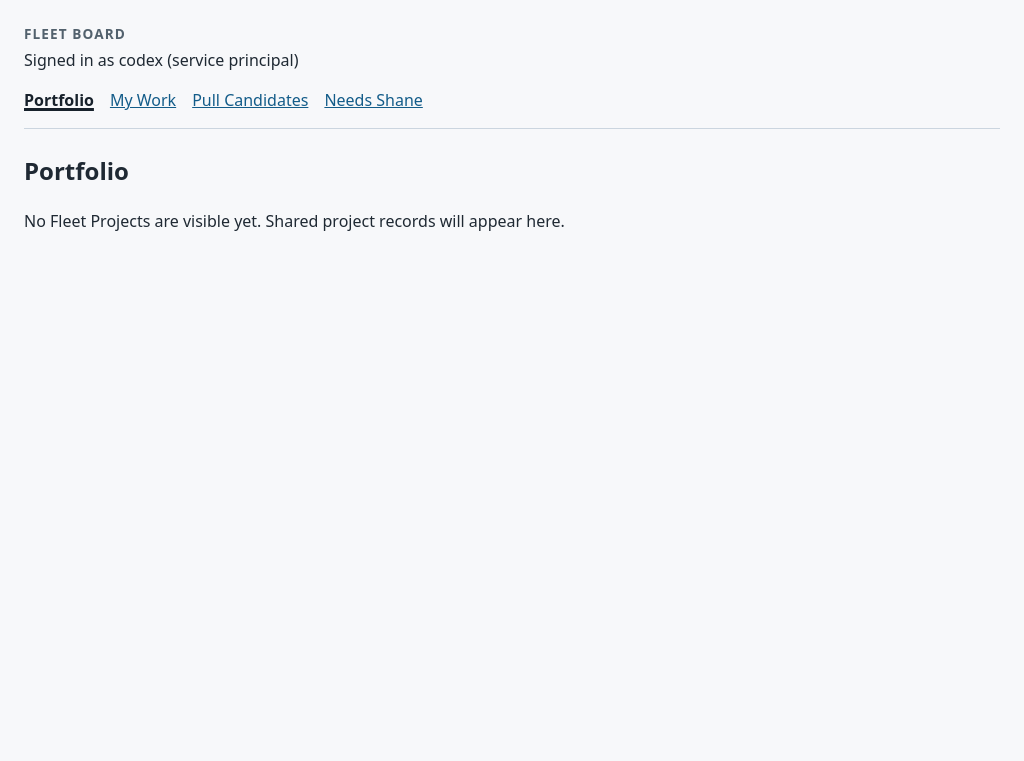
Work Request lifecycle on the Board › refreshes a stale request before an explicit new-version retry
Expected: the text "Signed in as codex (service principal)" is shown, 24,49 -> 298,71
Click the link "My Work".
click(143, 100)  # box 110,88 -> 176,112
(page scrolled)
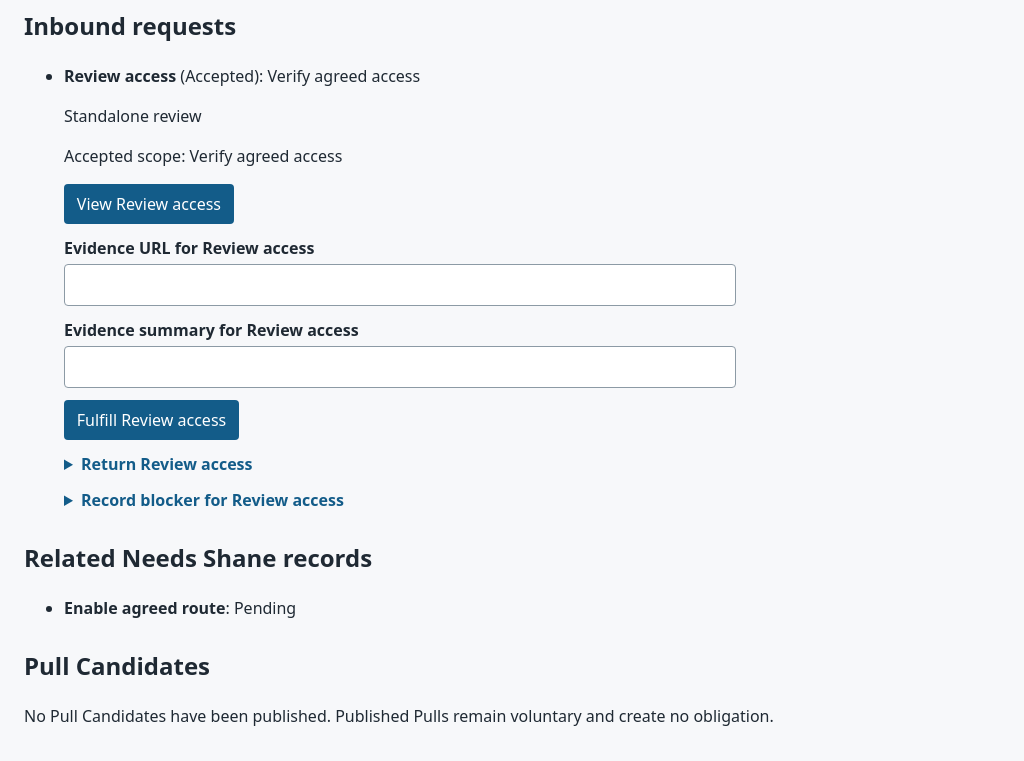
Click the heading "Return Review access".
click(167, 464)  # box 81,453 -> 252,475
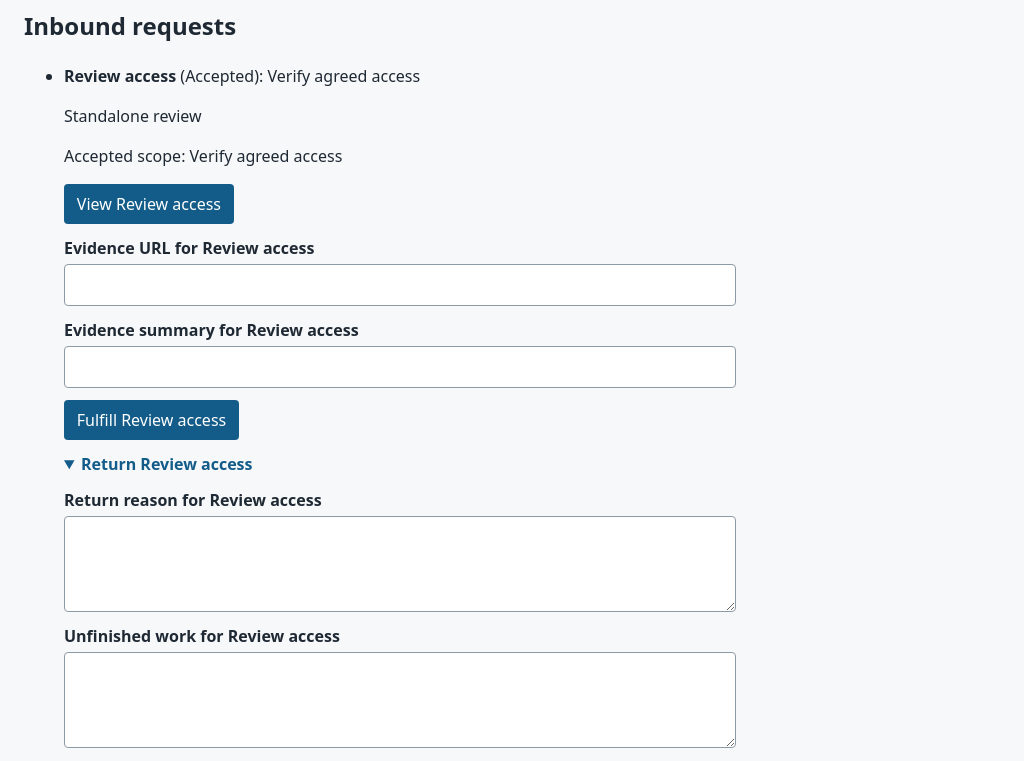
Type "Unavailable" into the text box labelled "Return reason for Review access".
click(400, 564); type("Unavailable")  # box 64,516 -> 736,612
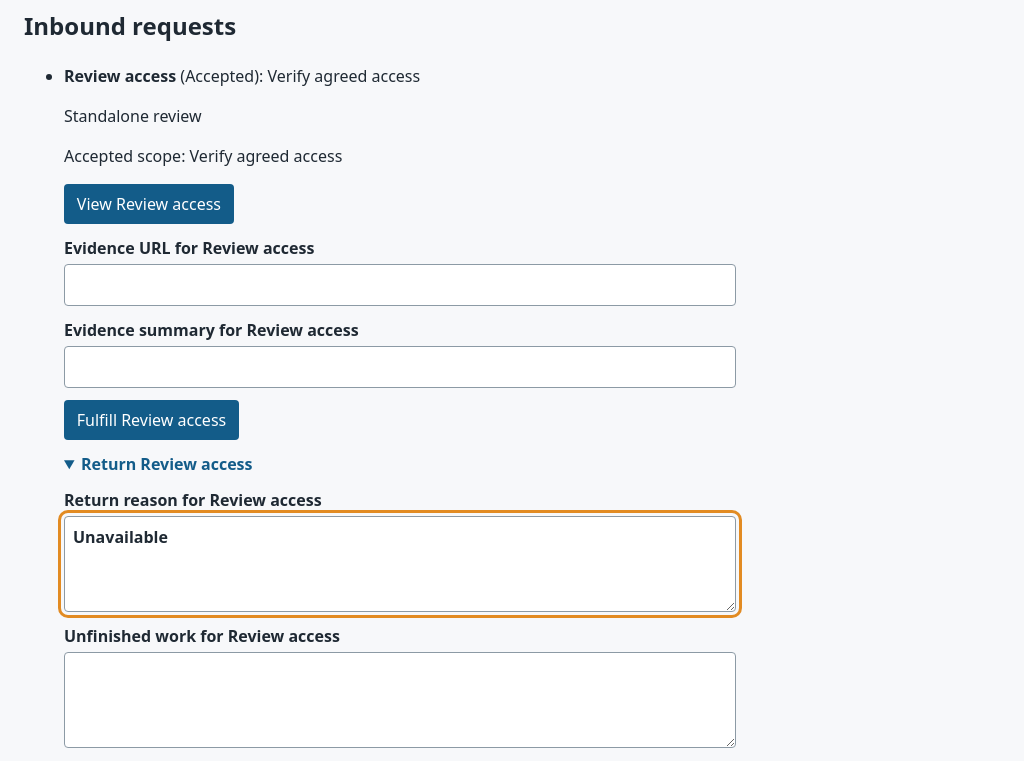
Type "Verification remains" into the text box labelled "Unfinished work for Review access".
click(400, 700); type("Verification remains")  # box 64,652 -> 736,748
(page scrolled)
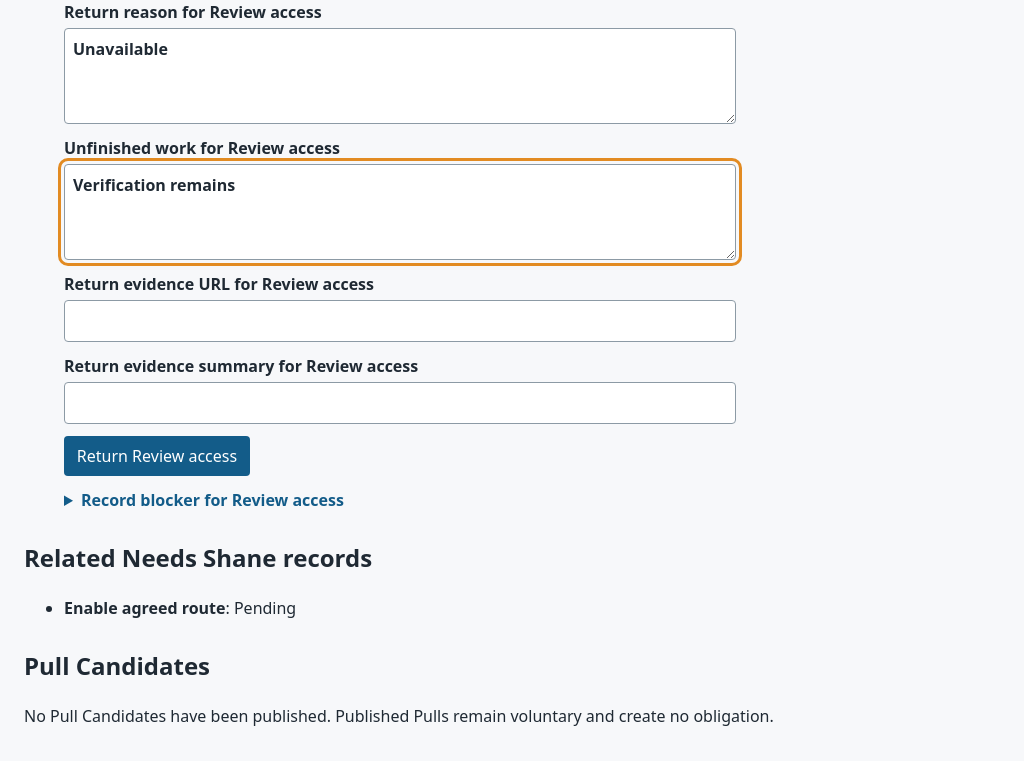
Click the button "Return Review access".
click(157, 456)  # box 64,436 -> 250,476
(page scrolled)
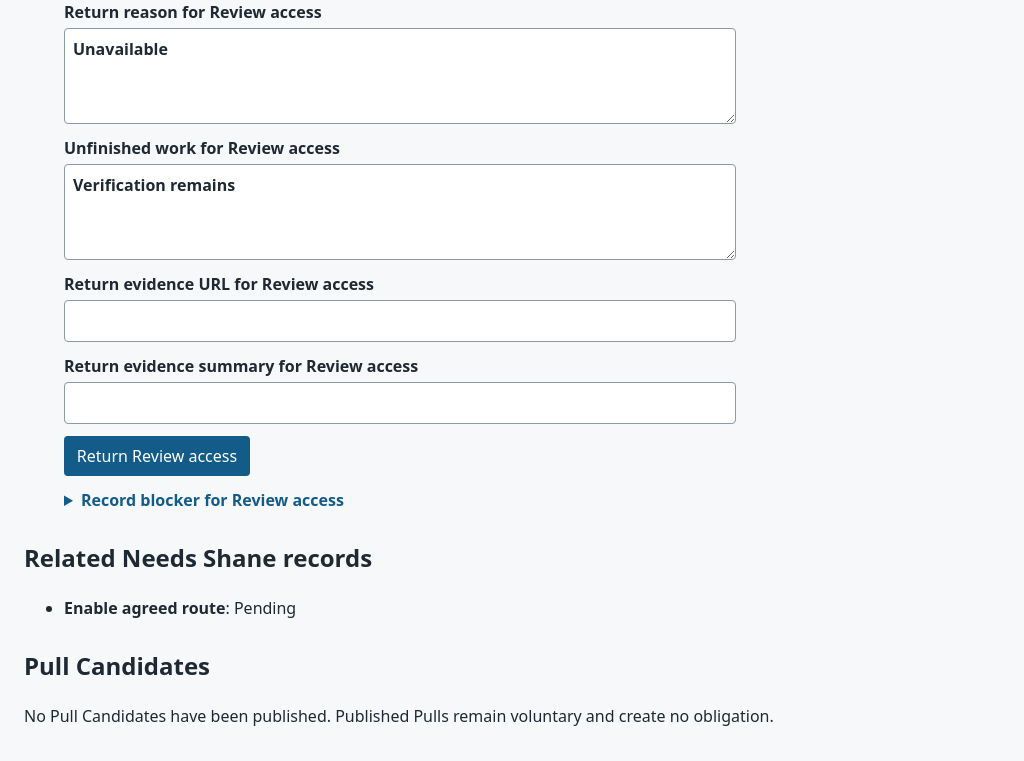
Expected: the text box labelled "Return reason for Review access" is enabled, 64,28 -> 736,124
Click the button "Return Review access".
click(157, 456)  # box 64,436 -> 250,476
(page scrolled)
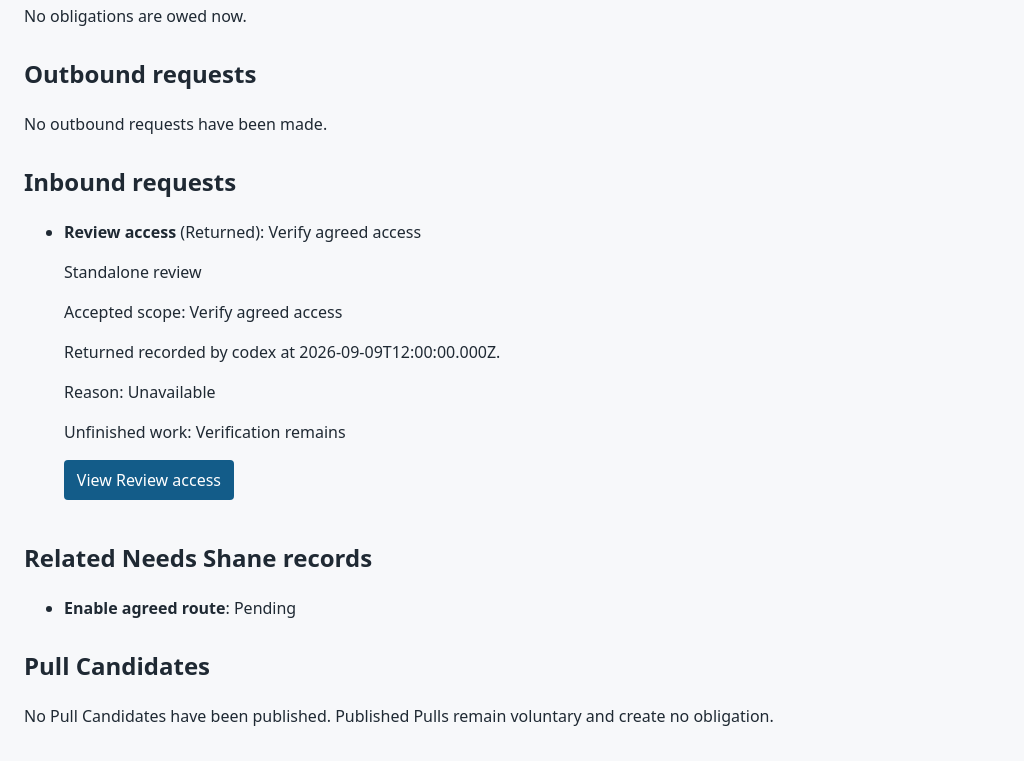
Expected: the text "Unfinished work: Verification remains" is shown, 64,421 -> 346,443
